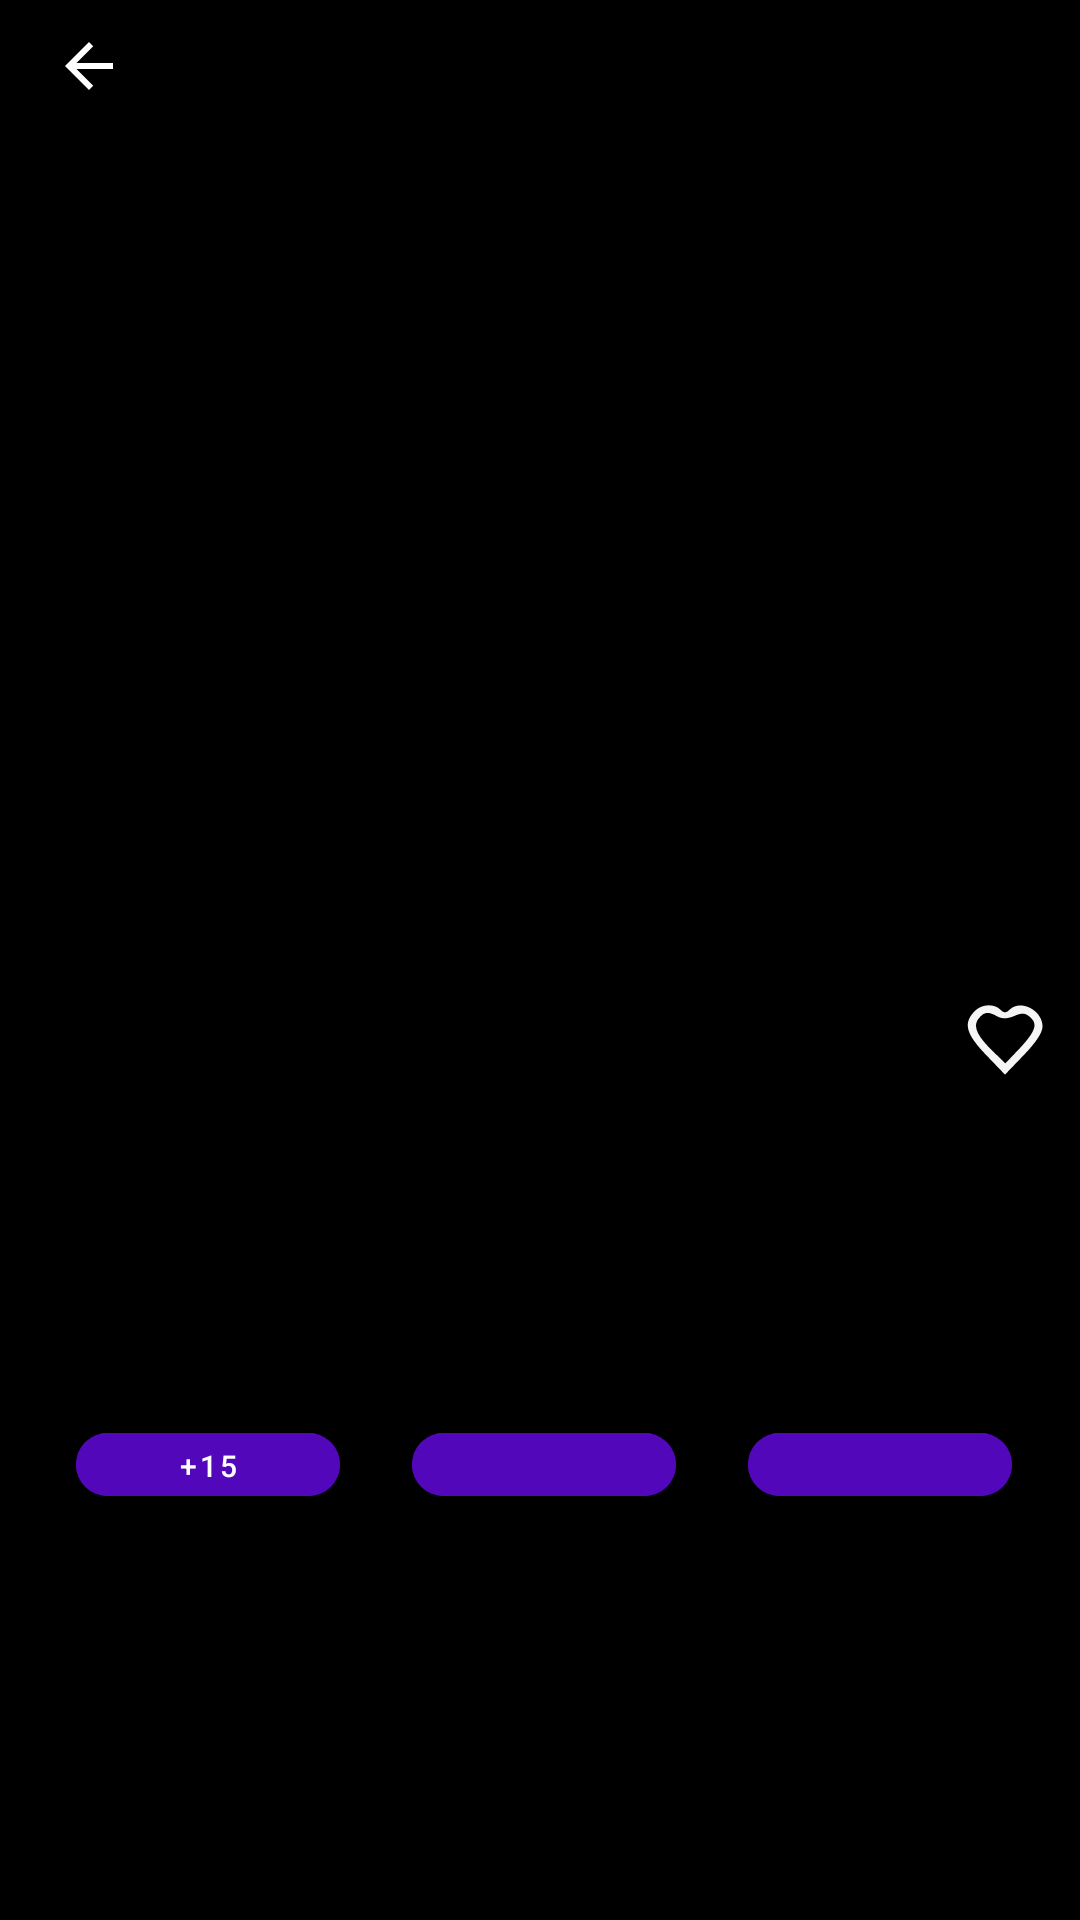

Where icons sit on this 1080px×1920px app screen, as (x1, y1, x2, y2):
back: (65, 42, 113, 90)
